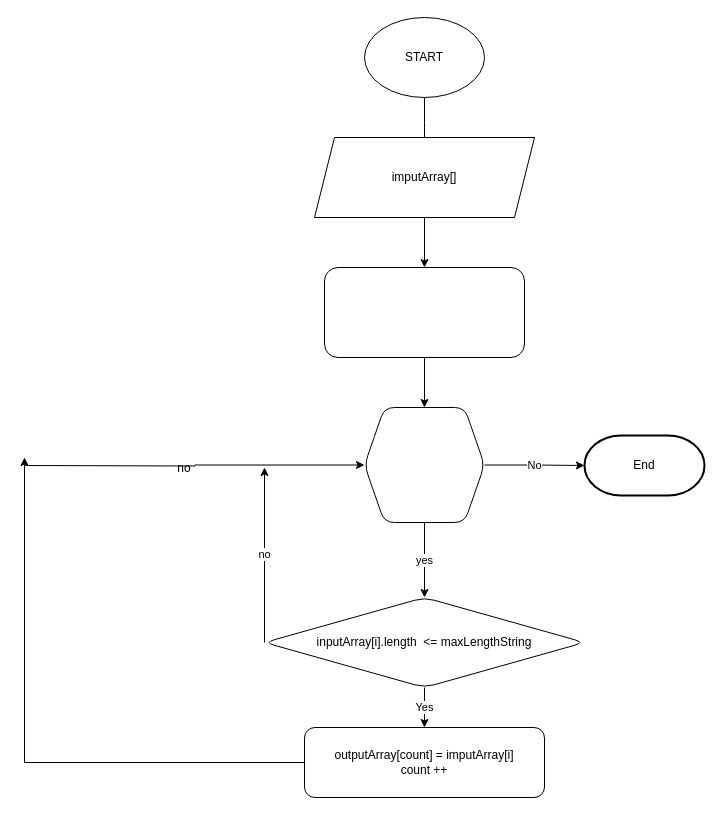
This 723x815 diagram has some shape labels left out. The centre of each missing label's shape, as x and y in pixels:
i = 0; i < len i = i +1: the point at 424,464
outputArray[] len=inputArray length count=0 maxLenghtString=3: the point at 424,312
